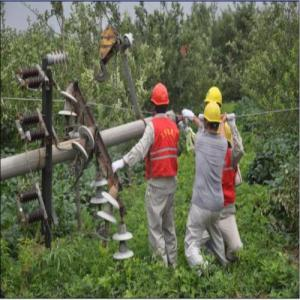red: (152, 83, 171, 115)
yellow: (204, 102, 223, 135), (206, 87, 223, 114)
